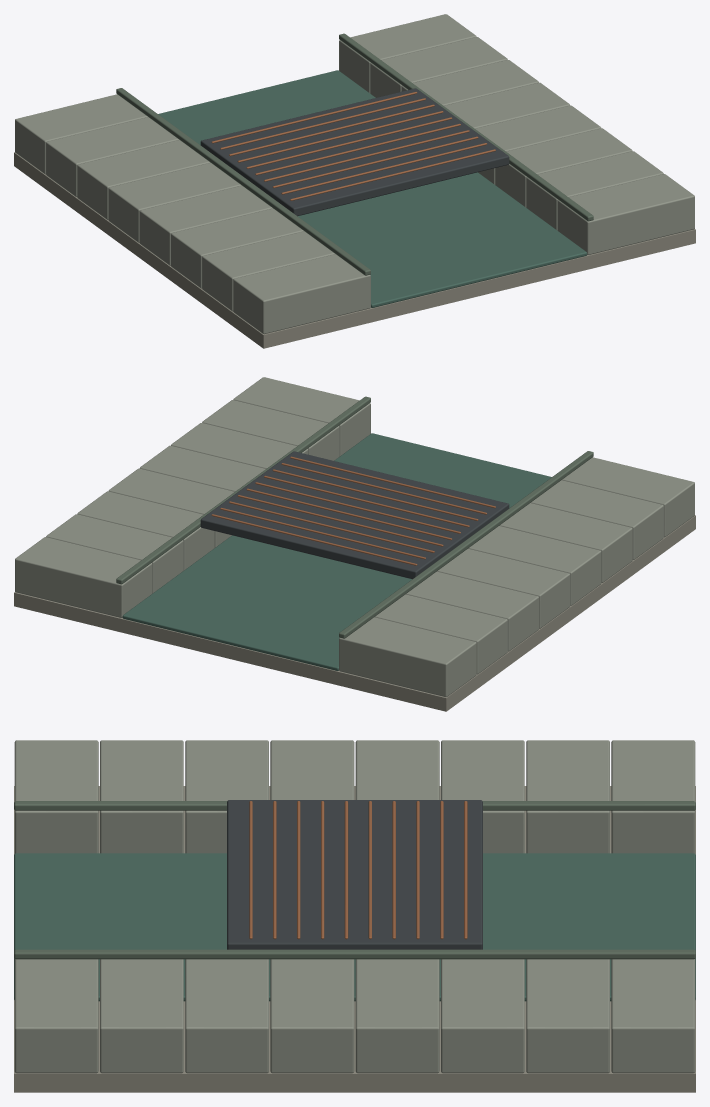
The model's file is undercity-sewers-and-thieves-den-inspection-crossing-b-e85a2074__25025.glb.
The picture shows the model from 3 angles, top to bottom: view 1: azimuth 30°, elevation 25°; view 2: azimuth 150°, elevation 25°; view 3: azimuth 270°, elevation 25°; orthographic projection. The views are drawn at different scales.
Parts seen in each view (by area): view 1: inspection-crossing-bay; view 2: inspection-crossing-bay; view 3: inspection-crossing-bay.
Part boxes in pixels (x1=…): inspection-crossing-bay: x1=14, y1=14, x2=695, y2=348; inspection-crossing-bay: x1=14, y1=377, x2=695, y2=711; inspection-crossing-bay: x1=14, y1=740, x2=695, y2=1092.
Size of the model in its own units: 4 by 0.5151 by 4.
